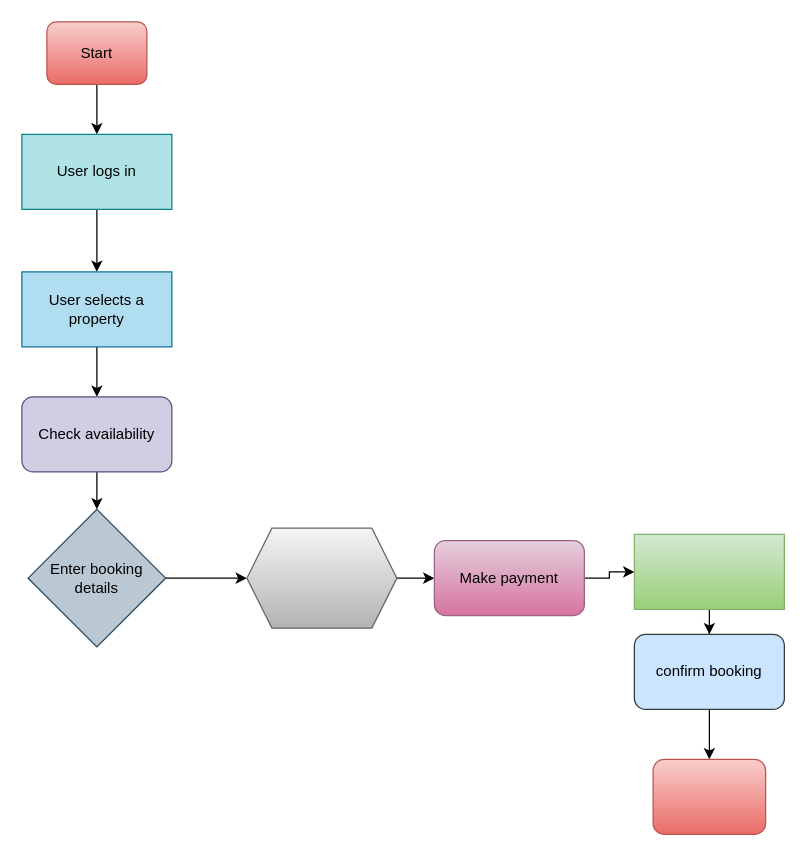
This 806x856 diagram has some shape labels left out. Each missing label, with the centre of its shape:
Calculate total price: point 321,577
End: point 709,796
payment processed: point 708,571
